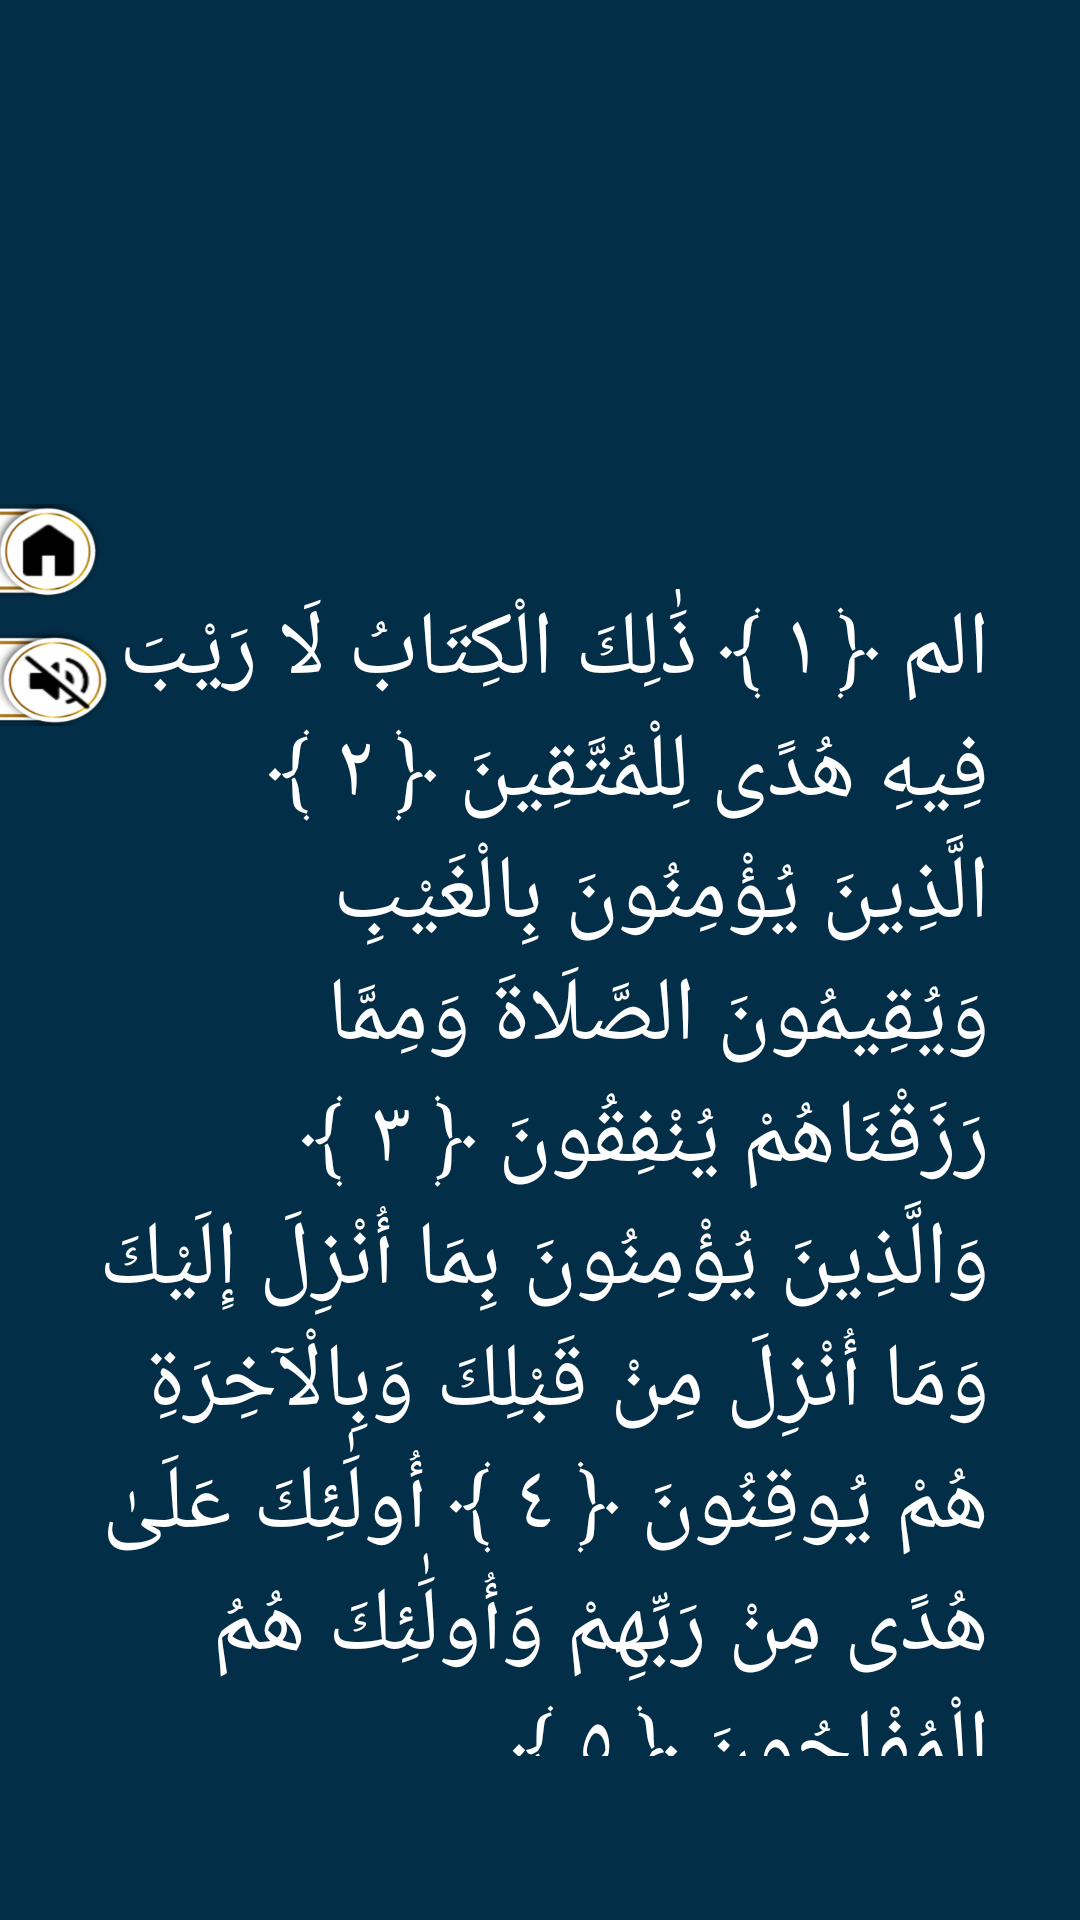

Icons on this 1080px×1920px Android screen, each with the point to tap as (x,y):
home: (48,549)
mutepng: (53,680)
